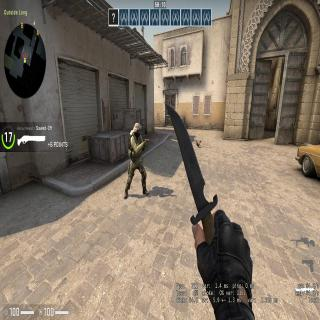CT-Body: (125, 120, 149, 192)
CT-Head: (133, 125, 142, 137)
